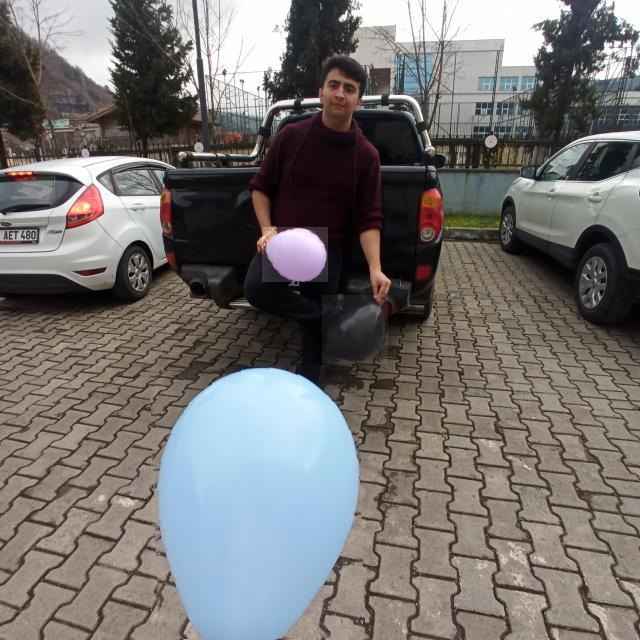balloon: (151, 365, 363, 640), (322, 295, 388, 364), (262, 227, 328, 282)
